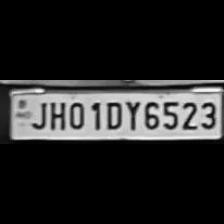0: (66, 98, 86, 130)
1: (86, 99, 102, 131)
2: (178, 98, 198, 130)
3: (196, 98, 216, 130)
5: (159, 98, 179, 130)
6: (140, 98, 160, 130)
D: (102, 98, 124, 130)
H: (46, 98, 66, 130)
J: (29, 98, 47, 130)
Y: (124, 98, 140, 130)
